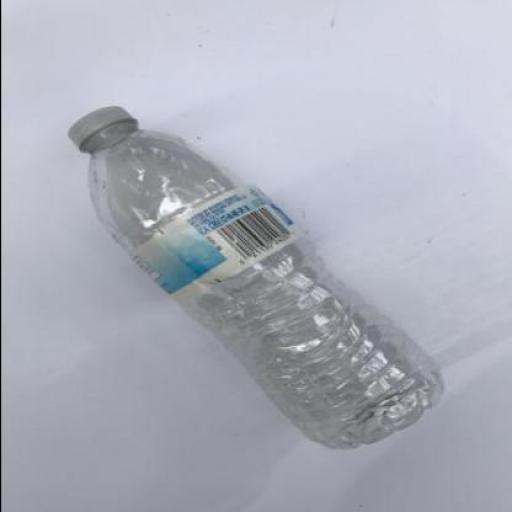plastic: (67, 103, 443, 448), (125, 182, 307, 304), (68, 104, 139, 152)
